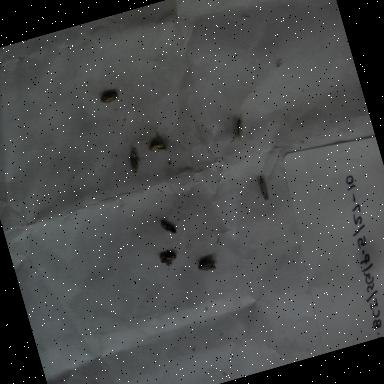pbw: (121, 146, 148, 182), (252, 174, 274, 206), (96, 87, 124, 112), (196, 256, 220, 278), (146, 136, 170, 157), (158, 248, 180, 268), (159, 217, 179, 238), (232, 116, 248, 142)
